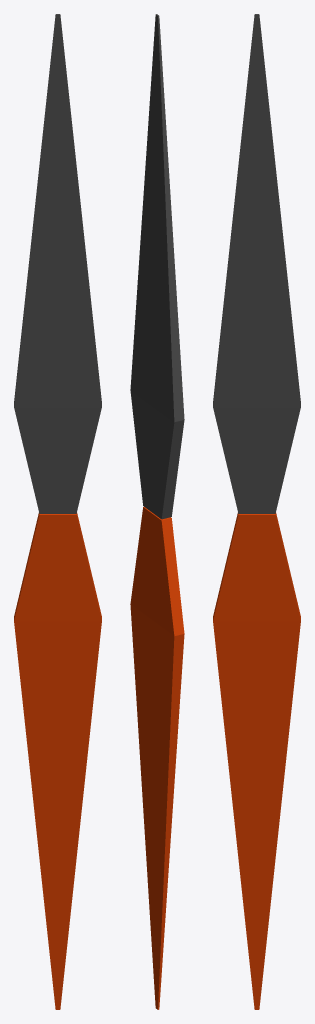
File: needles compass 2.gltf
3 renders of one model, left to right at view 1: azimuth 90°, elevation 25°; view 2: azimuth 210°, elevation 25°; view 3: azimuth 270°, elevation 25°, orthographic.
Visible parts, largest first — view 1: Cube.001; view 2: Cube.001; view 3: Cube.001.
Part boxes in pixels (x1=…): Cube.001: x1=14, y1=14, x2=101, y2=1009; Cube.001: x1=130, y1=14, x2=184, y2=1009; Cube.001: x1=213, y1=14, x2=300, y2=1009.
Bounding box in the file's own units: 0.0592 × 5.53 × 0.4425.
